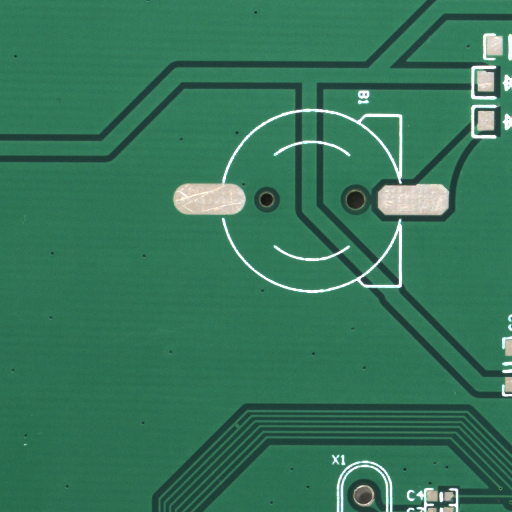Short: (237, 425, 245, 434)
